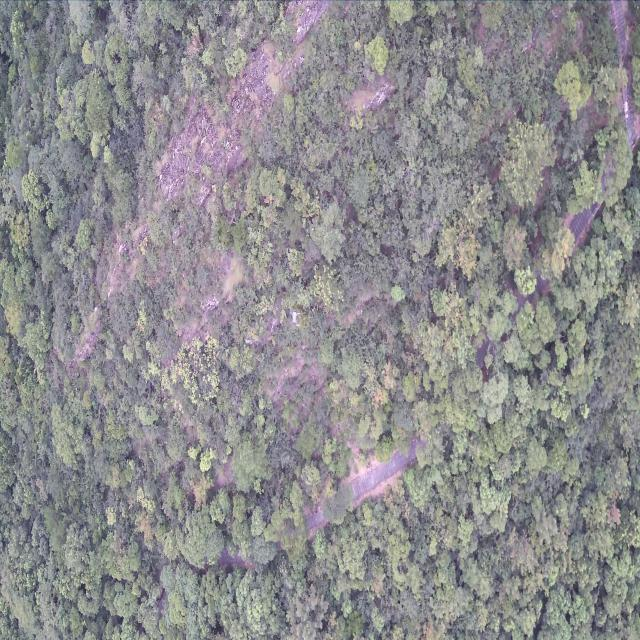UAV: (286, 307, 302, 328)
